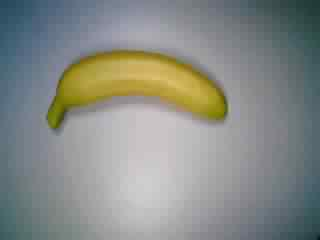banana: (44, 46, 236, 150)
